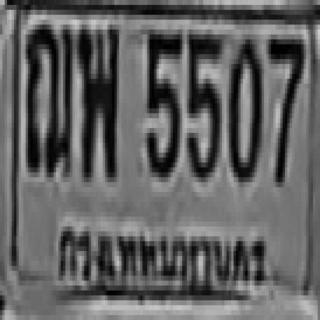A12: (23, 20, 72, 172)
A30: (77, 25, 117, 177)
N00: (227, 34, 259, 177)
N05: (184, 30, 220, 177), (145, 25, 180, 172)
N07: (266, 34, 301, 182)
P04: (50, 211, 269, 300)
